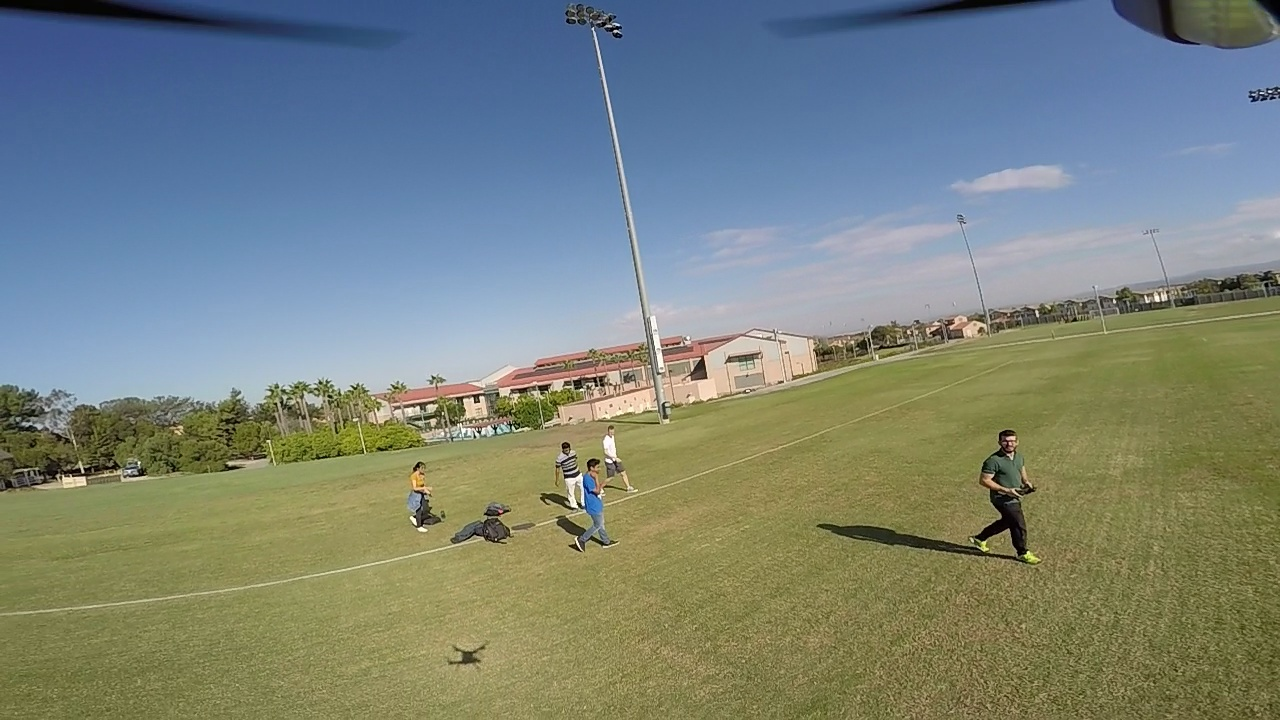person: (970, 425, 1041, 562), (564, 457, 607, 548), (400, 458, 433, 528), (599, 423, 626, 489), (549, 437, 574, 488)
